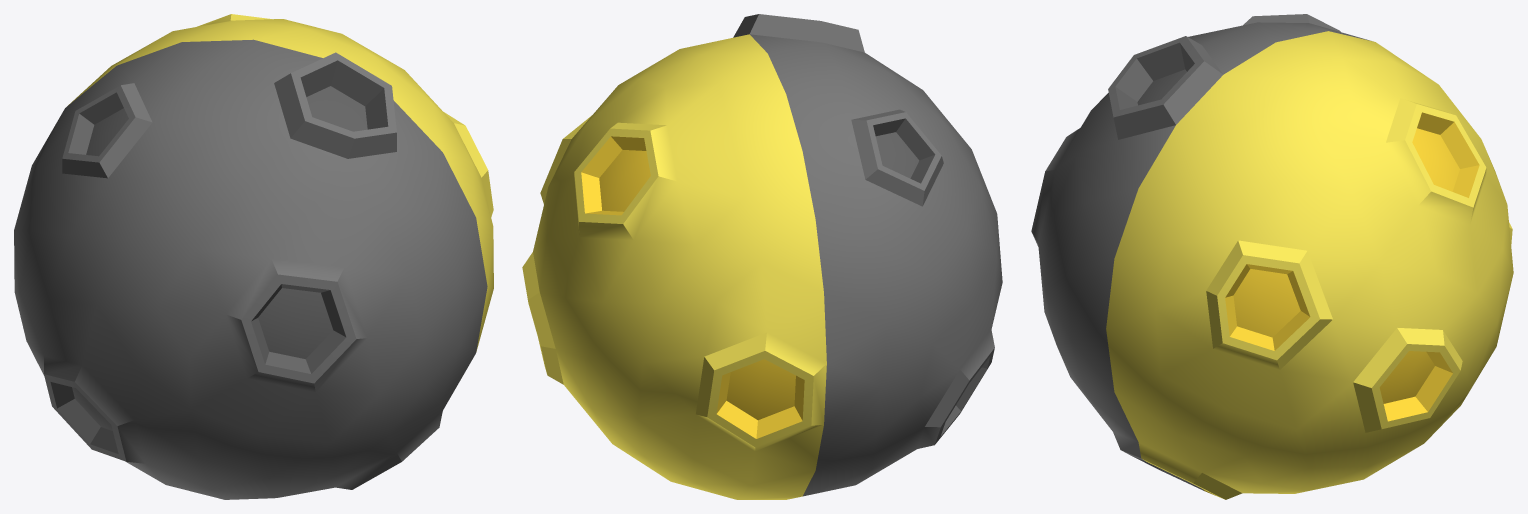
Rendered from waxing_crescent_moon.gltf.
3 renders of one model, left to right at view 1: azimuth 30°, elevation 25°; view 2: azimuth 150°, elevation 25°; view 3: azimuth 270°, elevation 25°, orthographic. The views are drawn at different scales.
Parts seen in each view (by area): view 1: Icosphere.001; view 2: Icosphere.001; view 3: Icosphere.001.
Part boxes in pixels (x1,y1,x2,y2): Icosphere.001: [14, 14, 493, 499]; Icosphere.001: [522, 14, 1002, 499]; Icosphere.001: [1031, 14, 1513, 499].
Bounding box in the file's own units: 2.04 × 2.02 × 2.02.
1 material, 1 textured.
